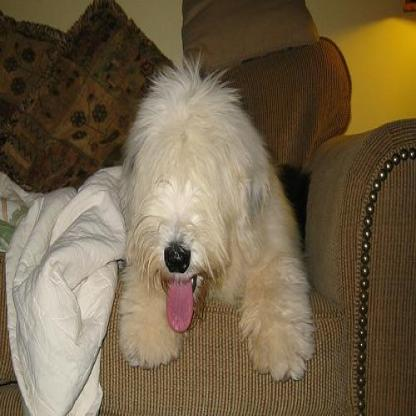Old_English_sheepdog: (114, 50, 316, 383)
